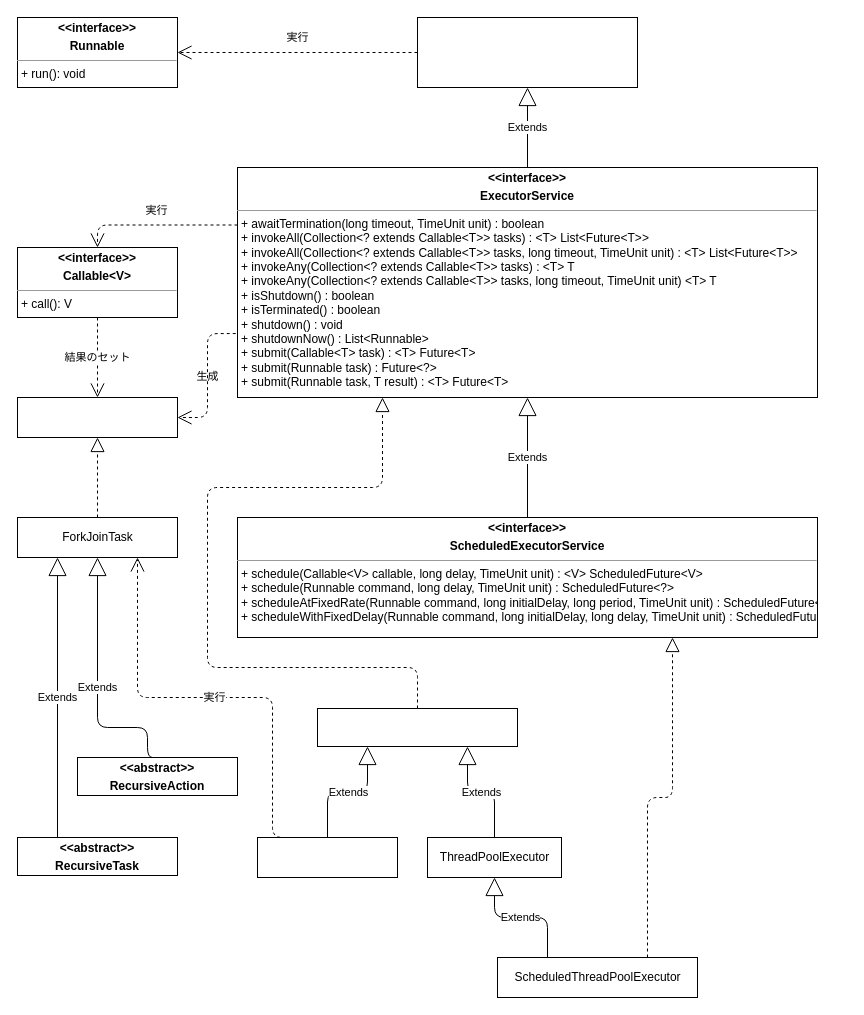
Image size: 864x1015. Some labels were removed from this diagram. The shapes that lost their labels are listed below. From the top down, each one's box as (x1, y1, x2, y2) in pixels, then its label:
(416, 16, 638, 88): <<interface>> Executor + execute(Runnable command): void
(16, 396, 178, 438): <<interface>> Future<V>
(316, 708, 518, 746): <<abstract>> AbstractExecutorService
(256, 836, 398, 878): ForkJoinPool
